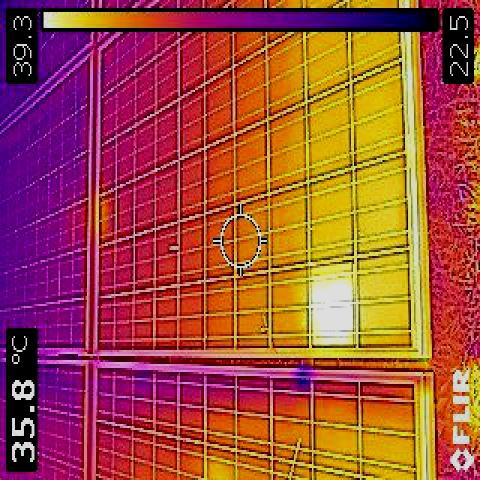fault: (310, 264, 356, 345)
